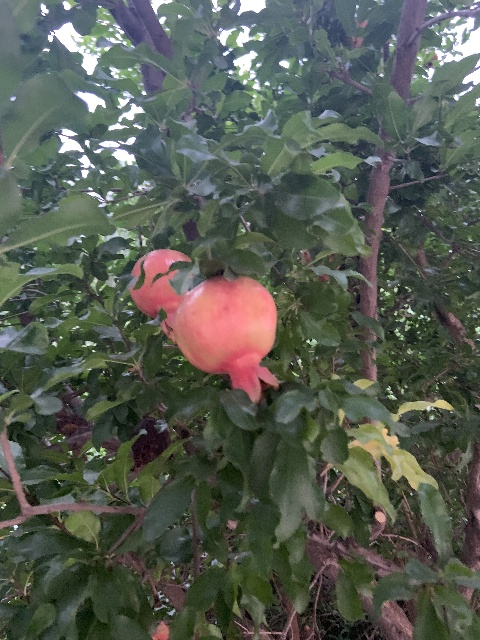ripe: (174, 274, 280, 402), (130, 248, 191, 337)
